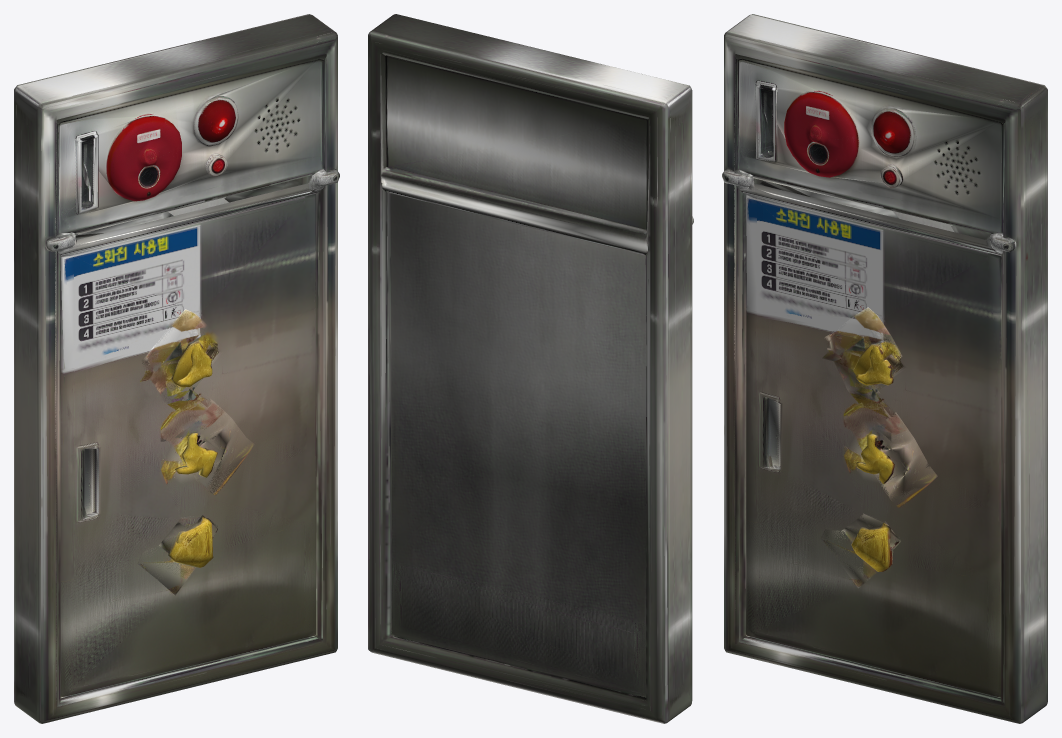
Rendered from Meshy_AI_Fire_Extinguisher_Cab_0517123649_texture.fbx.
3 renders of one model, left to right at view 1: azimuth 30°, elevation 25°; view 2: azimuth 150°, elevation 25°; view 3: azimuth 330°, elevation 25°, orthographic.
Parts seen in each view (by area): view 1: Mesh_0; view 2: Mesh_0; view 3: Mesh_0.
Part boxes in pixels (x1,y1,x2,y2): Mesh_0: (14,14,339,723); Mesh_0: (368,14,693,723); Mesh_0: (722,14,1047,723).
Size of the model in its own units: 95.89 by 191 by 21.92.
Materials: 1 (1 with a texture image).
